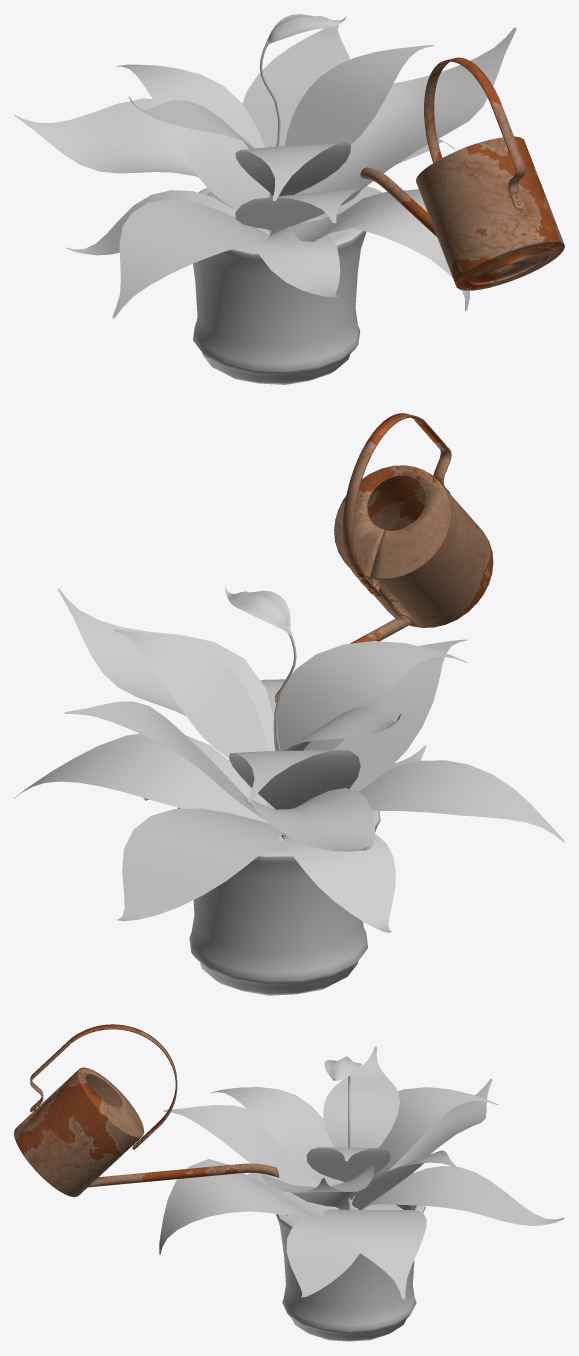
File: plant.fbx
The picture shows the model from 3 angles, top to bottom: view 1: azimuth 30°, elevation 25°; view 2: azimuth 150°, elevation 25°; view 3: azimuth 270°, elevation 25°; orthographic projection. The views are drawn at different scales.
Visible parts, largest first — view 1: Interiorlant_low, uploads_files_1925002_Peter+Holmblad+watering+can+for+Stelto; view 2: Interiorlant_low, uploads_files_1925002_Peter+Holmblad+watering+can+for+Stelto; view 3: Interiorlant_low, uploads_files_1925002_Peter+Holmblad+watering+can+for+Stelto.
Boxes of the visible parts, x1=… form: Interiorlant_low: x1=14, y1=14, x2=516, y2=384; uploads_files_1925002_Peter+Holmblad+watering+can+for+Stelto: x1=360, y1=57, x2=564, y2=290; Interiorlant_low: x1=14, y1=587, x2=564, y2=995; uploads_files_1925002_Peter+Holmblad+watering+can+for+Stelto: x1=275, y1=413, x2=493, y2=702; Interiorlant_low: x1=159, y1=1046, x2=564, y2=1341; uploads_files_1925002_Peter+Holmblad+watering+can+for+Stelto: x1=14, y1=1024, x2=279, y2=1197.
Bounding box in the file's own units: 56.5 × 48.26 × 77.39.
